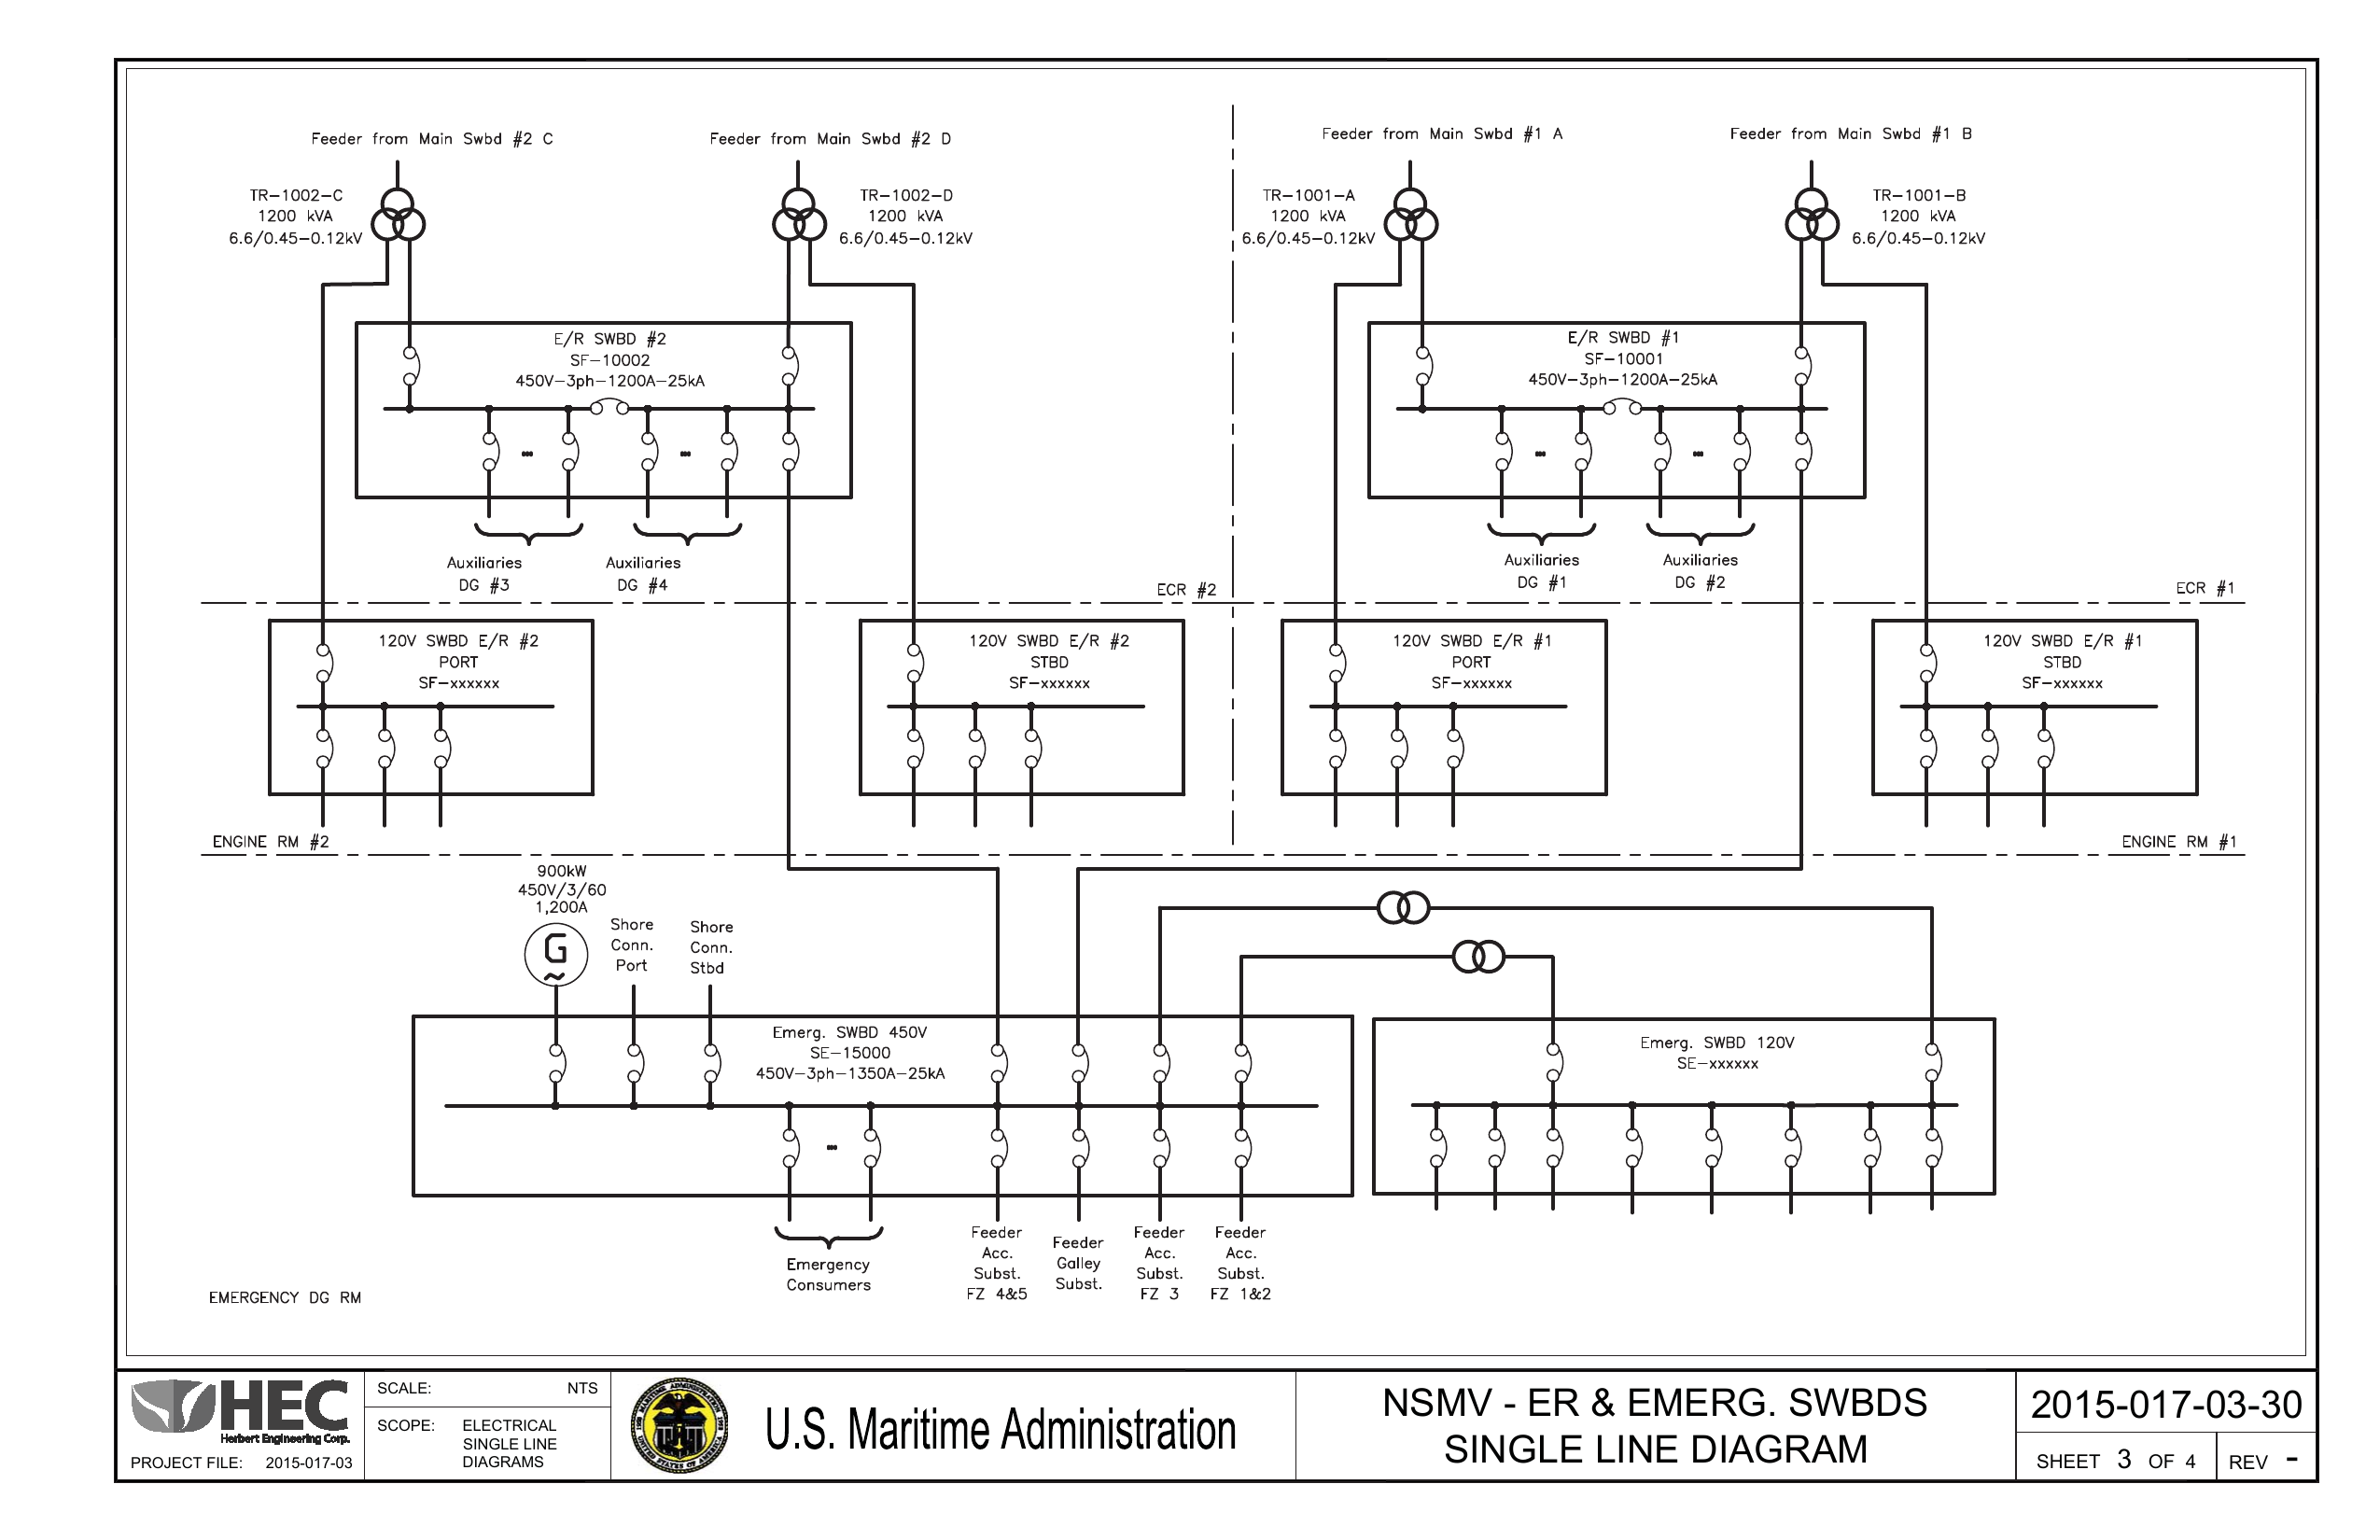circuit_breaker: (1306, 708, 1362, 784), (611, 1020, 661, 1101), (1905, 1025, 1964, 1093), (1310, 623, 1363, 694), (683, 1023, 736, 1094), (765, 328, 814, 395), (1011, 716, 1062, 780), (973, 1112, 1020, 1179), (1055, 1110, 1100, 1179), (1782, 330, 1830, 394), (1960, 721, 2007, 787), (1634, 423, 1688, 480), (1906, 628, 1958, 687), (1143, 1025, 1190, 1089), (364, 709, 404, 784), (1416, 1110, 1461, 1176), (892, 716, 938, 777), (850, 1113, 892, 1181), (626, 416, 670, 480), (1851, 1112, 1891, 1181), (422, 721, 468, 780), (1379, 713, 1421, 779), (1140, 1117, 1185, 1178), (1615, 1113, 1658, 1176), (390, 331, 432, 395), (1533, 1110, 1575, 1174), (536, 1025, 574, 1094), (1225, 1027, 1266, 1089), (468, 414, 507, 482), (1433, 716, 1471, 784), (704, 420, 746, 480), (1532, 1025, 1573, 1086), (770, 1115, 808, 1181), (982, 1028, 1022, 1091), (1062, 1025, 1102, 1087), (1908, 713, 1948, 773), (895, 631, 937, 688), (1773, 1110, 1811, 1172), (1221, 1113, 1261, 1172), (1693, 1113, 1733, 1172), (579, 387, 647, 421), (305, 631, 347, 687), (2023, 716, 2064, 772), (958, 716, 996, 775), (553, 418, 586, 484), (1913, 1119, 1953, 1172), (1480, 1110, 1511, 1178), (1592, 385, 1653, 420), (772, 420, 807, 479), (1405, 331, 1440, 390), (307, 716, 343, 772), (1563, 421, 1599, 475), (1721, 418, 1756, 473), (1485, 421, 1518, 477), (1792, 423, 1811, 480)
